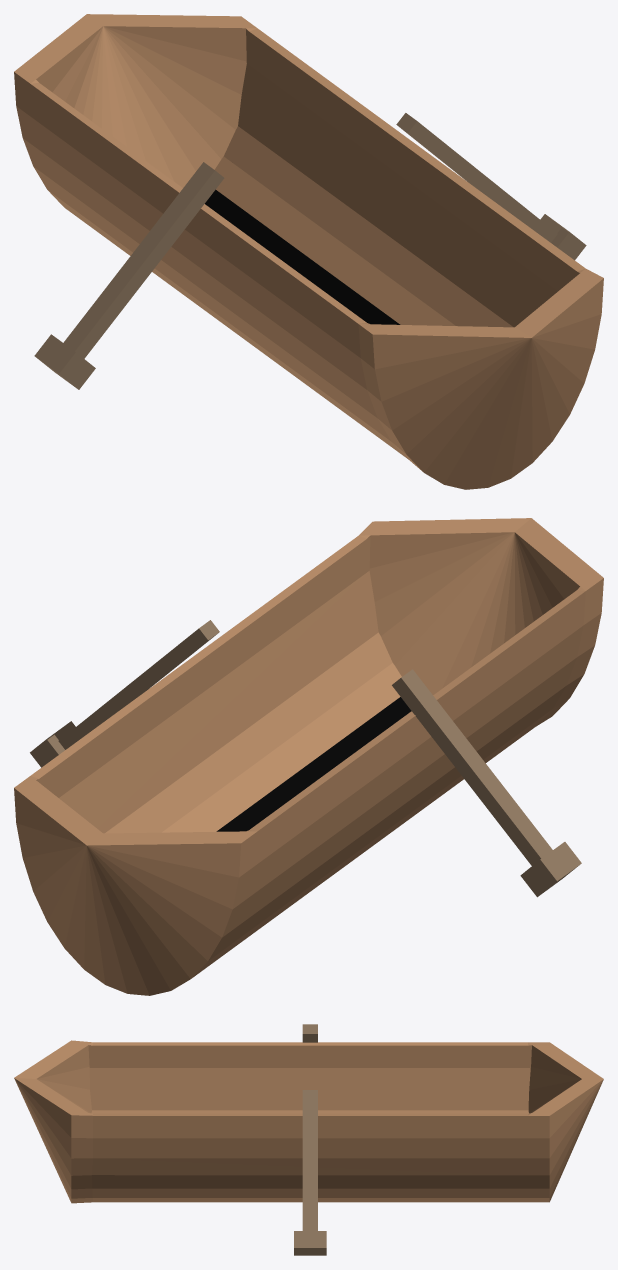
File: Canoe3.dae
The picture shows the model from 3 angles, top to bottom: view 1: azimuth 30°, elevation 25°; view 2: azimuth 150°, elevation 25°; view 3: azimuth 270°, elevation 25°; orthographic projection. The views are drawn at different scales.
Parts seen in each view (by area): view 1: Cylinder, Cube.001, Cube; view 2: Cylinder, Cube.001, Cube; view 3: Cylinder, Cube.
Part boxes in pixels (x1,y1,x2,y2): Cylinder: (14,14,603,489); Cube.001: (34,162,224,389); Cube: (396,113,586,260); Cylinder: (14,518,603,995); Cube.001: (392,669,581,897); Cube: (30,620,219,767); Cylinder: (14,1040,603,1203); Cube: (294,1090,326,1255).
Bounding box in the file's own units: 1.86 × 2.71 × 0.7194.
